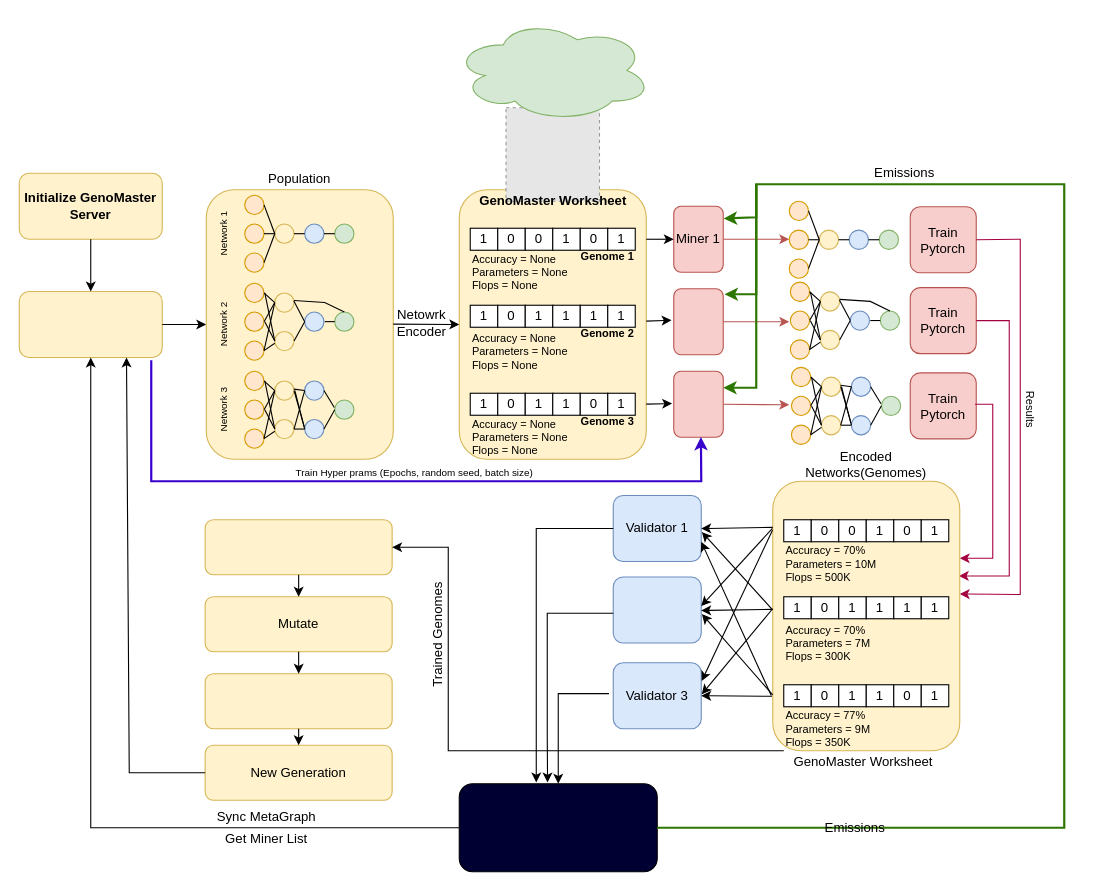
The diagram is 1093 pixels wide and 891 high, and some of its shapes have lost their labels. Grey dashed boxes stand in for pictures. Here are the shapes that lost their labels. From the top down, the box of each, then its label:
(453, 18, 652, 122): Job Watchdog
(18, 290, 162, 358): Assign jobs to miners
(673, 288, 723, 355): Miner 2
(673, 370, 723, 437): Miner 3
(204, 519, 392, 575): Rank Genomes
(612, 576, 701, 643): Validator 2
(204, 673, 392, 729): Cross over
(458, 783, 657, 872): Bitensor Network
